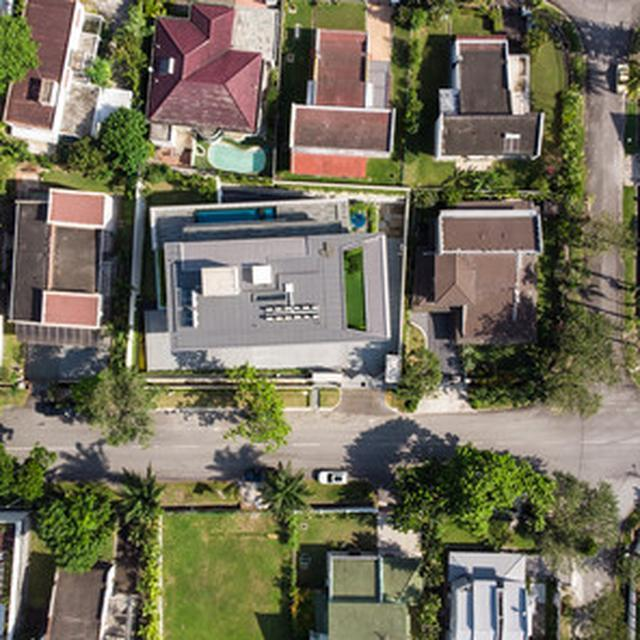building: (140, 188, 397, 364), (0, 505, 166, 640), (4, 172, 117, 357), (148, 0, 273, 152), (428, 188, 543, 350), (0, 0, 115, 139), (432, 31, 550, 161), (444, 540, 577, 640), (296, 22, 384, 171), (302, 531, 408, 640)
